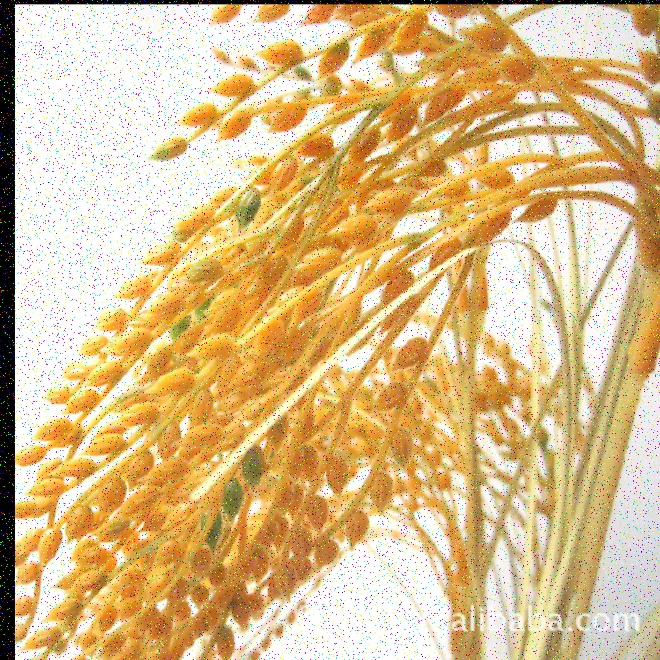rice: (30, 17, 559, 636)
